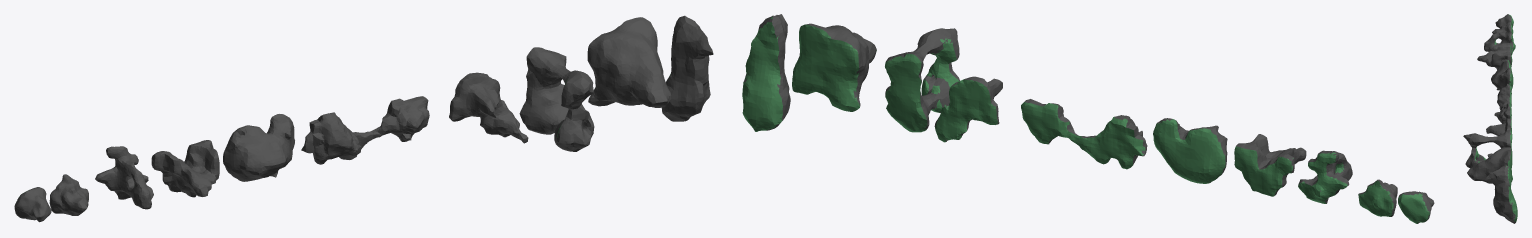
File: Sky Islands.fbx
3 views of the same model, side by side, from view 1: azimuth 30°, elevation 25°; view 2: azimuth 150°, elevation 25°; view 3: azimuth 270°, elevation 25° (orthographic). The views are drawn at different scales.
Visible parts, largest first — view 1: Island Fragment 6, Island Fragment 5, Landbridge 1, Island Fragment 7, Island Fragment 3, Island Fragment 4, Island Fragment 2, Island Fragment 1, Island Fragment 9, Island Fragment 8; view 2: Island Fragment 6, Island Fragment 5, Island Fragment 7, Landbridge 1, Island Fragment 3, Island Fragment 4, Island Fragment 2, Island Fragment 1, Island Fragment 9, Island Fragment 8; view 3: Island Fragment 7, Island Fragment 6, Island Fragment 5, Island Fragment 2, Landbridge 1, Island Fragment 1, Island Fragment 3, Island Fragment 4, Island Fragment 8, Island Fragment 9.
Boxes of the visible parts, box(x1,y1,x2,y2) form: Island Fragment 6: box(587, 17, 671, 107); Island Fragment 5: box(519, 47, 594, 151); Landbridge 1: box(301, 96, 429, 164); Island Fragment 7: box(661, 15, 713, 121); Island Fragment 3: box(223, 114, 294, 181); Island Fragment 4: box(449, 72, 528, 143); Island Fragment 2: box(151, 140, 219, 197); Island Fragment 1: box(95, 146, 153, 209); Island Fragment 9: box(49, 174, 88, 215); Island Fragment 8: box(14, 187, 51, 222); Island Fragment 6: box(792, 23, 876, 111); Island Fragment 5: box(885, 28, 959, 132); Island Fragment 7: box(742, 14, 790, 131); Landbridge 1: box(1021, 99, 1147, 169); Island Fragment 3: box(1153, 118, 1227, 183); Island Fragment 4: box(934, 76, 1002, 142); Island Fragment 2: box(1234, 134, 1306, 196); Island Fragment 1: box(1298, 150, 1352, 203); Island Fragment 9: box(1358, 179, 1397, 216); Island Fragment 8: box(1398, 191, 1434, 223); Island Fragment 7: box(1485, 165, 1517, 223); Island Fragment 6: box(1467, 147, 1512, 187); Island Fragment 5: box(1463, 129, 1512, 168); Island Fragment 2: box(1477, 43, 1512, 69); Landbridge 1: box(1494, 84, 1511, 123); Island Fragment 1: box(1484, 23, 1515, 55); Island Fragment 3: box(1491, 59, 1513, 90); Island Fragment 4: box(1486, 118, 1511, 157); Island Fragment 8: box(1495, 14, 1513, 28); Island Fragment 9: box(1492, 21, 1513, 39).
Size of the model in its own units: 16090 by 2629 by 2202.
